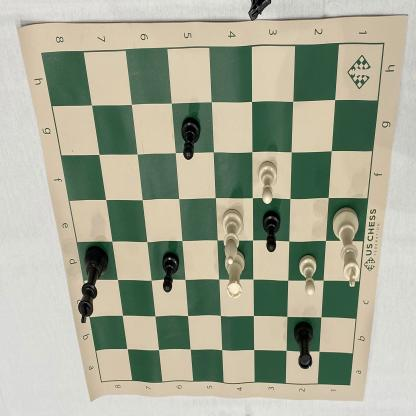black-king: (76, 245, 112, 326)
black-pawn: (178, 115, 202, 166), (261, 210, 283, 256), (160, 250, 181, 298)
black-rook: (291, 318, 315, 374)
white-bishop: (218, 206, 246, 267)
white-king: (329, 203, 363, 292)
white-pawn: (256, 158, 282, 208), (297, 253, 319, 299)
white-rook: (222, 247, 248, 302)
